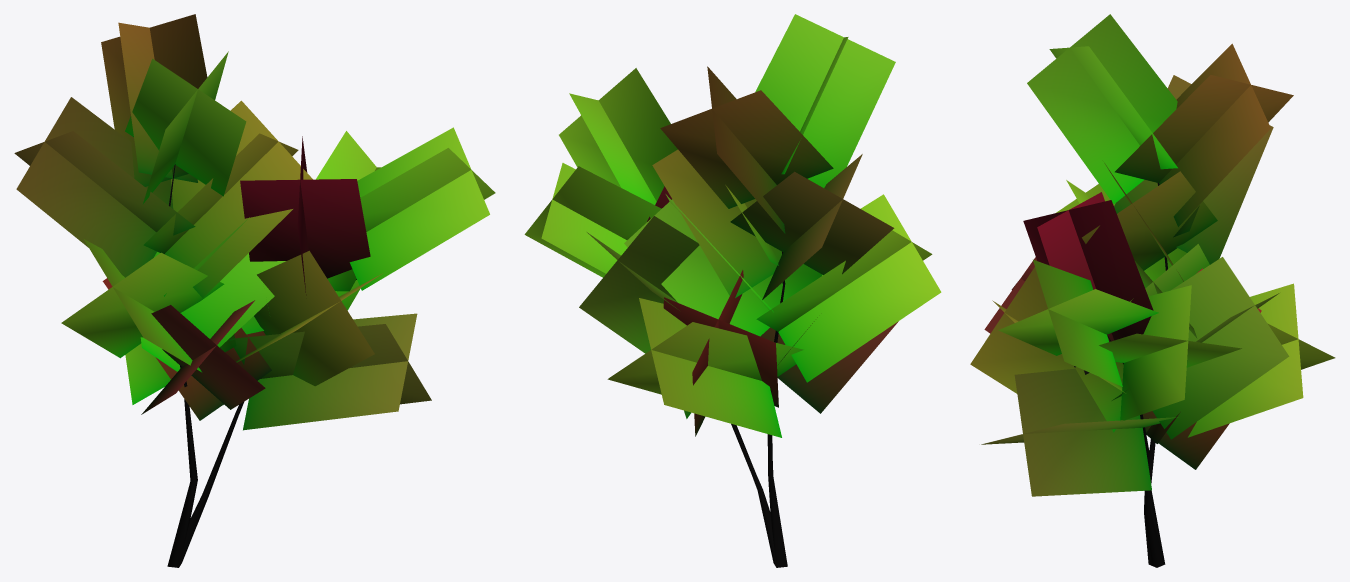
The model's file is SuperTree_7.fbx.
3 renders of one model, left to right at view 1: azimuth 30°, elevation 25°; view 2: azimuth 150°, elevation 25°; view 3: azimuth 270°, elevation 25°, orthographic. The views are drawn at different scales.
Visible parts, largest first — view 1: SuperTree_7; view 2: SuperTree_7; view 3: SuperTree_7.
Part boxes in pixels (x1,y1,x2,y2): SuperTree_7: (14,14,495,567); SuperTree_7: (524,14,941,567); SuperTree_7: (970,14,1335,567).
Size of the model in its own units: 706 by 873 by 547.
